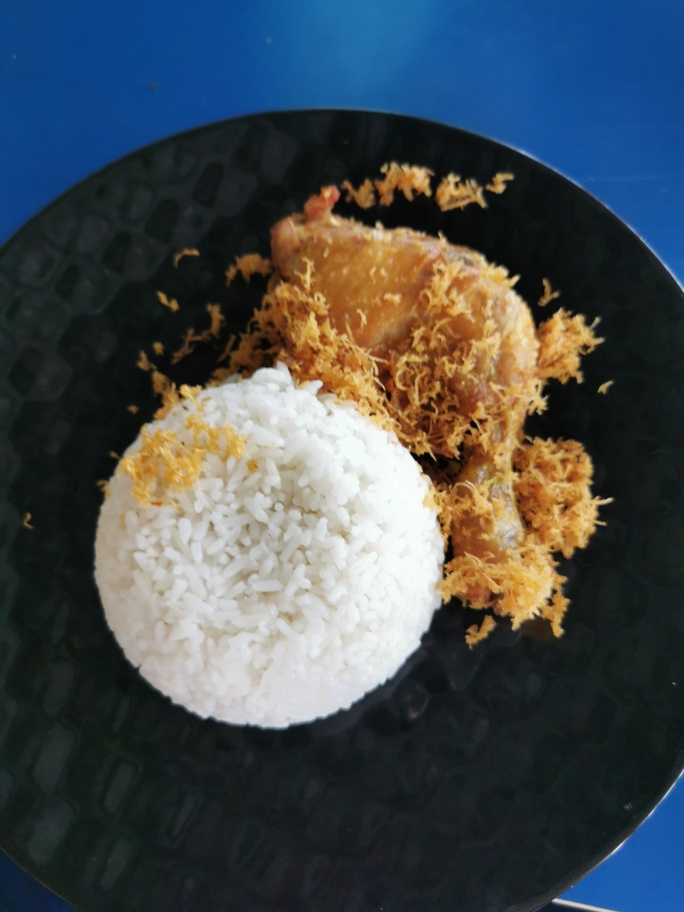ayam goreng: (253, 166, 598, 623)
nasi putih: (92, 366, 455, 754)
